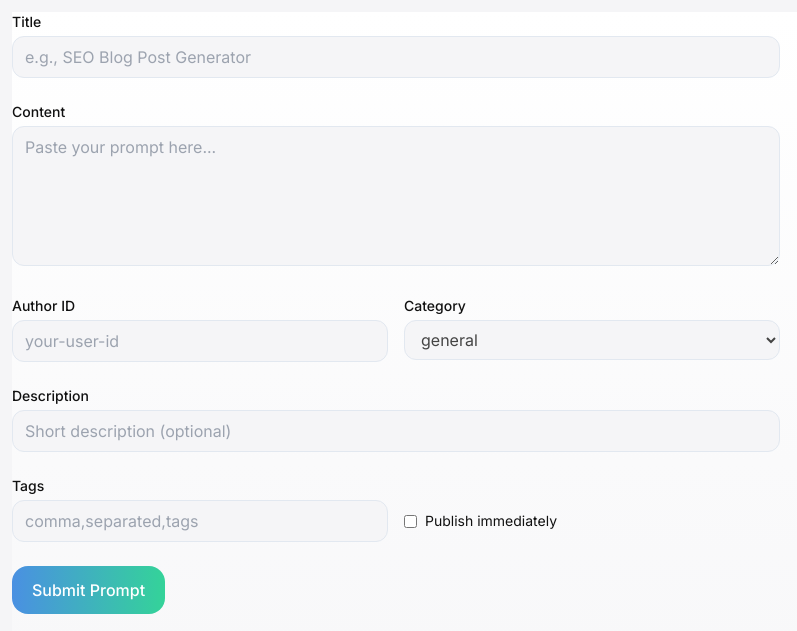
Test: PromptForm › submits and shows success message
This screenshot has width=797, height=631.
Type "My Prompt" into the field labelled "Title" at (396, 57), box [12,36,780,78]
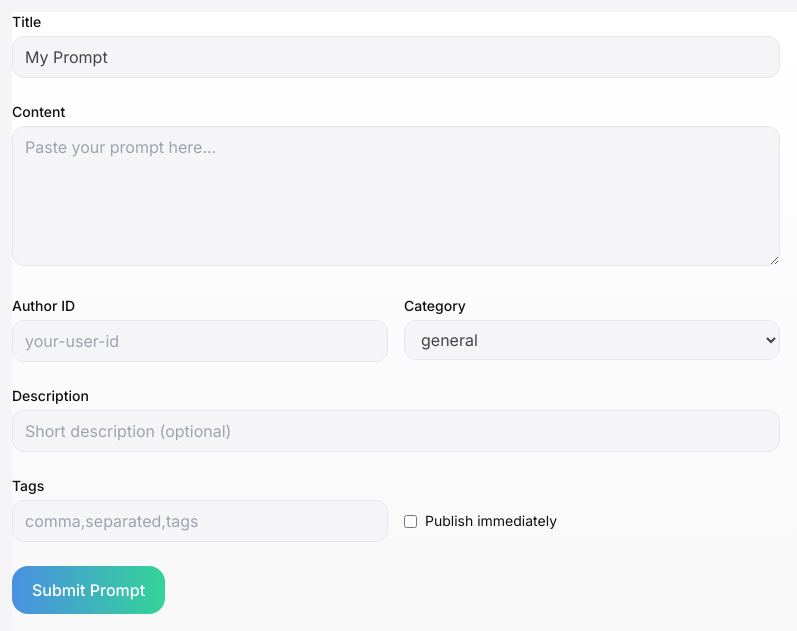
Type "This is the prompt content." into the text box labelled "Content" at (396, 196), box [12,126,780,266]
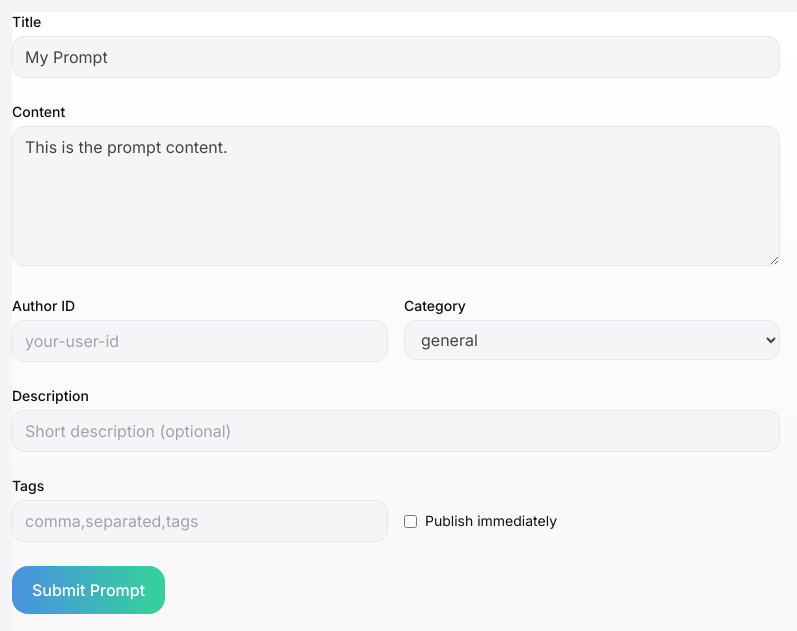
Type "user-1" into the field labelled "Author ID" at (200, 341), box [12,320,388,362]
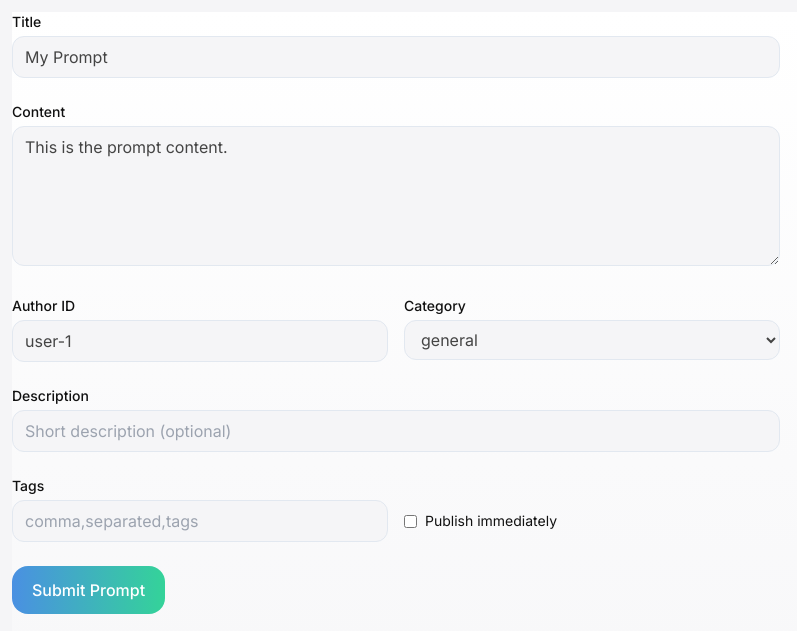
Click the button "Submit Prompt" at (89, 590), box [12,566,165,614]
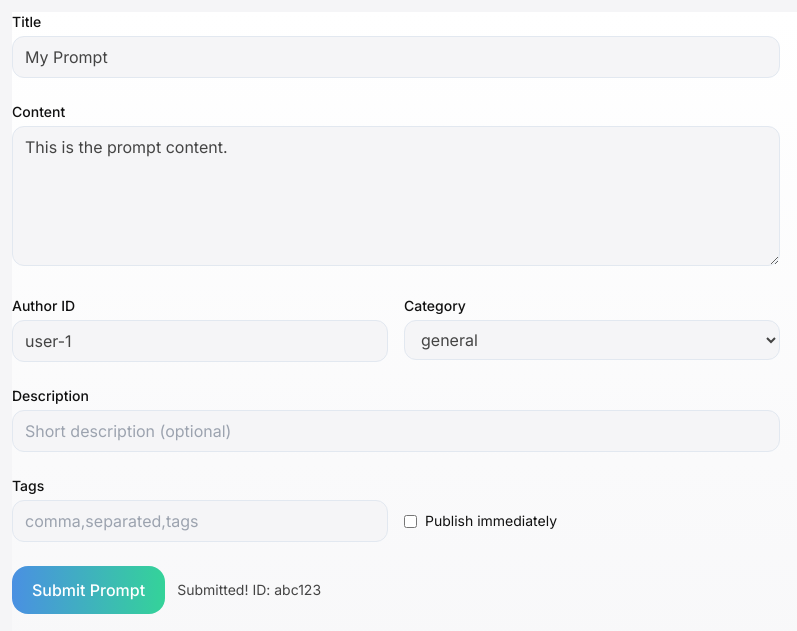
Now the text "Submitted! ID: abc123" is shown, box [177,580,321,600]
